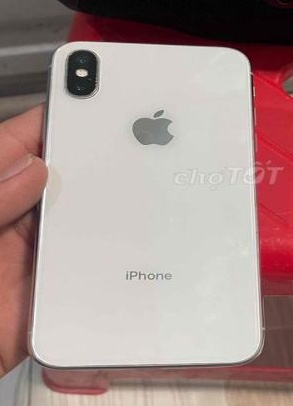scratch: (88, 62, 108, 93), (58, 64, 78, 85)
